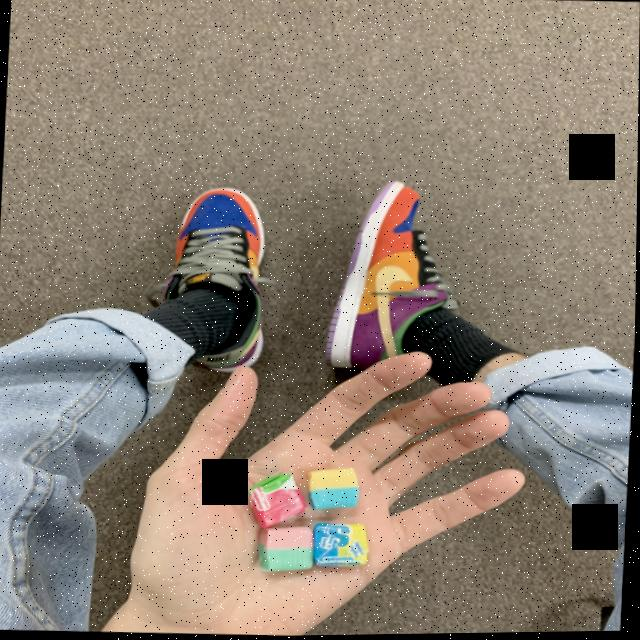shoes: (325, 177, 463, 382), (146, 184, 277, 378)
